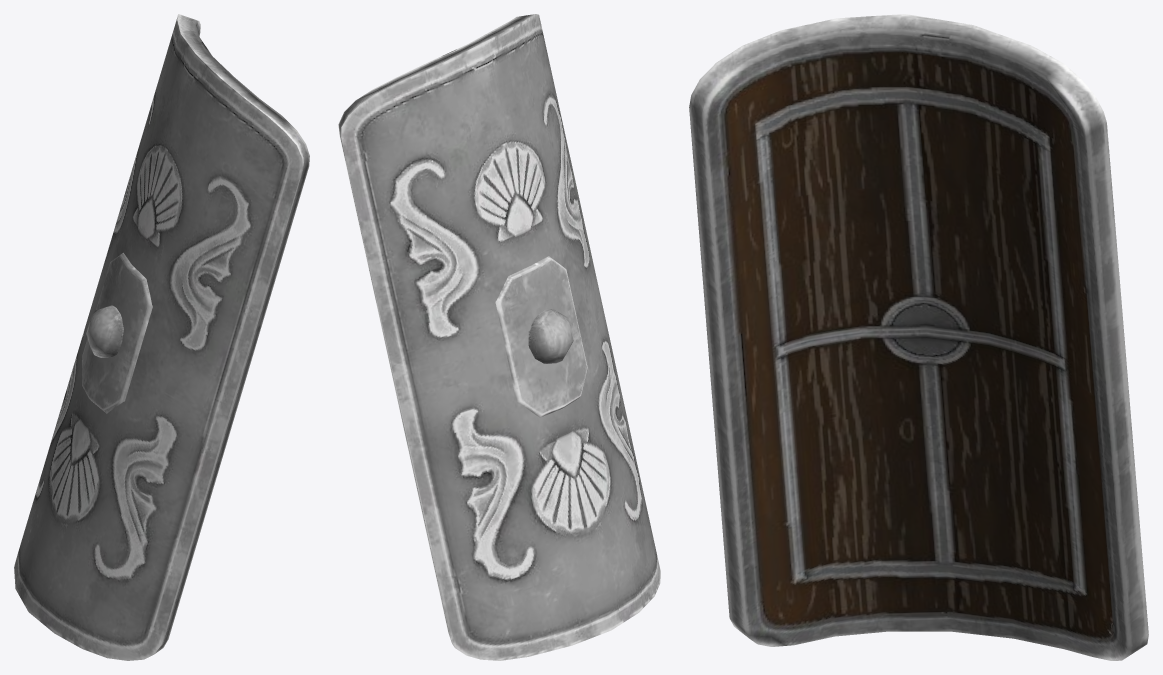
The model's file is shield-bronzeshields.glb.
The picture shows the model from 3 angles, left to right: view 1: azimuth 30°, elevation 25°; view 2: azimuth 150°, elevation 25°; view 3: azimuth 270°, elevation 25°; orthographic projection. The views are drawn at different scales.
Bounding box in the file's own units: 0.4395 × 1.02 × 0.6068.
1 material, 1 textured.
